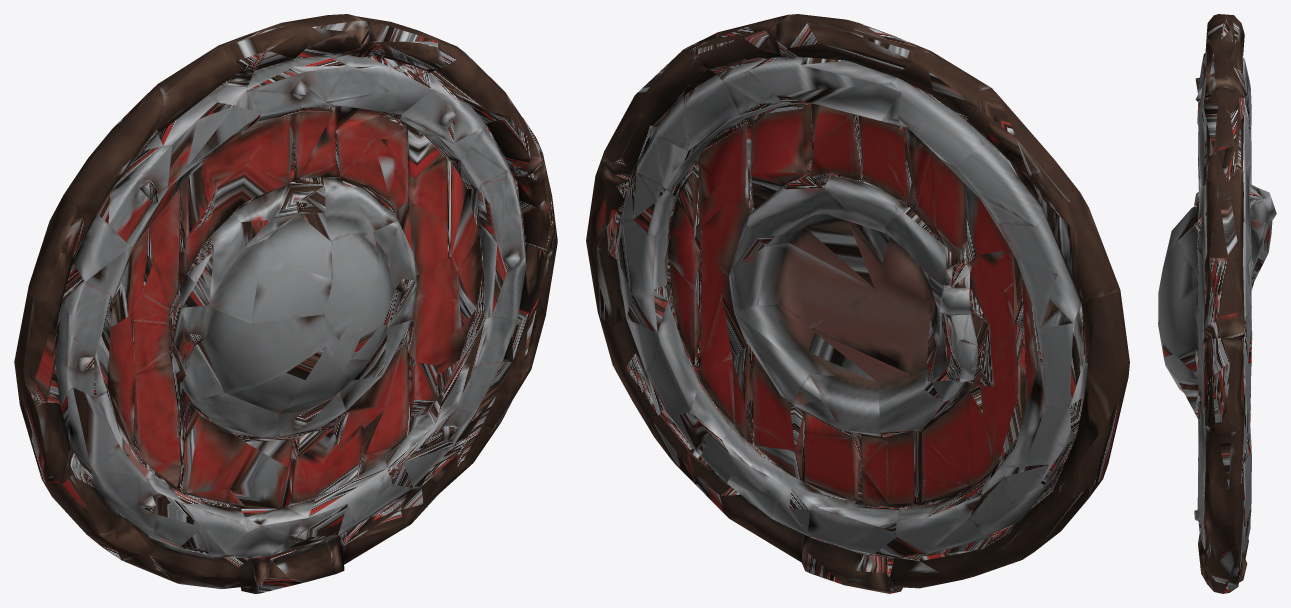
File: buckler.glb
The picture shows the model from 3 angles, left to right: view 1: azimuth 30°, elevation 25°; view 2: azimuth 150°, elevation 25°; view 3: azimuth 270°, elevation 25°; orthographic projection. The views are drawn at different scales.
Parts seen in each view (by area): view 1: Mesh_0; view 2: Mesh_0; view 3: Mesh_0.
Part boxes in pixels (x1,y1,x2,y2): Mesh_0: (14, 14, 557, 593); Mesh_0: (586, 14, 1129, 593); Mesh_0: (1158, 14, 1276, 593).
Bounding box in the file's own units: 0.4846 × 0.48 × 0.0978.
Materials: 1 (1 with a texture image).
